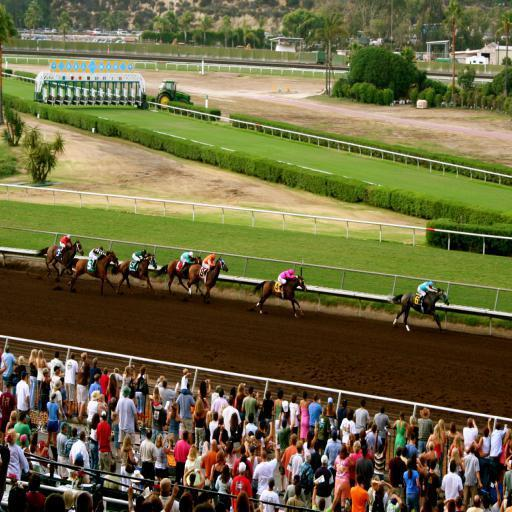horse: (250, 270, 308, 318), (392, 286, 450, 332), (66, 248, 121, 295), (34, 238, 86, 278), (110, 252, 160, 291), (154, 258, 204, 297), (186, 256, 230, 298)
